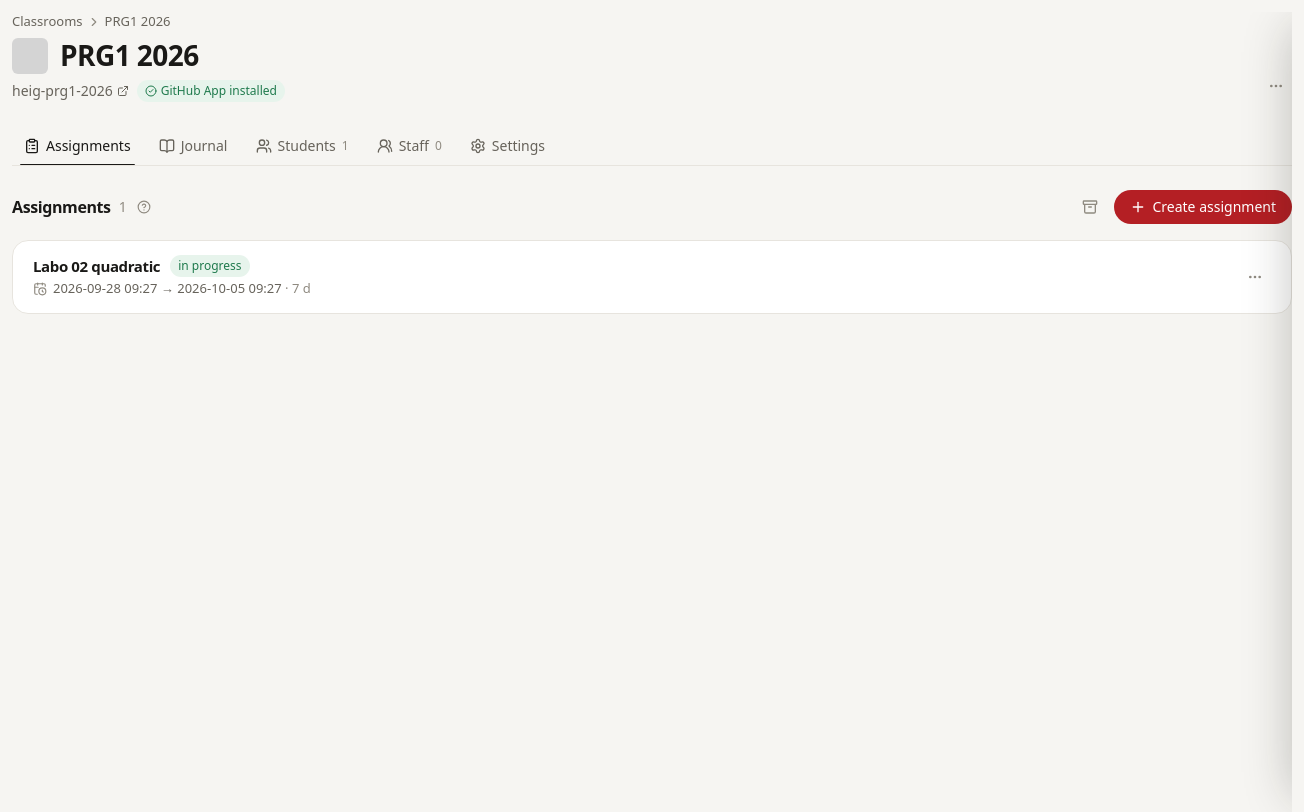
Test case: ClassroomView states › reports the grade sheet through toasts, since the menu is gone by then
Expected: the heading "PRG1 2026" is shown, [12,36,199,74]
Click the button named "Classroom actions". click: (1276, 86)
box: [1260,70,1292,102]
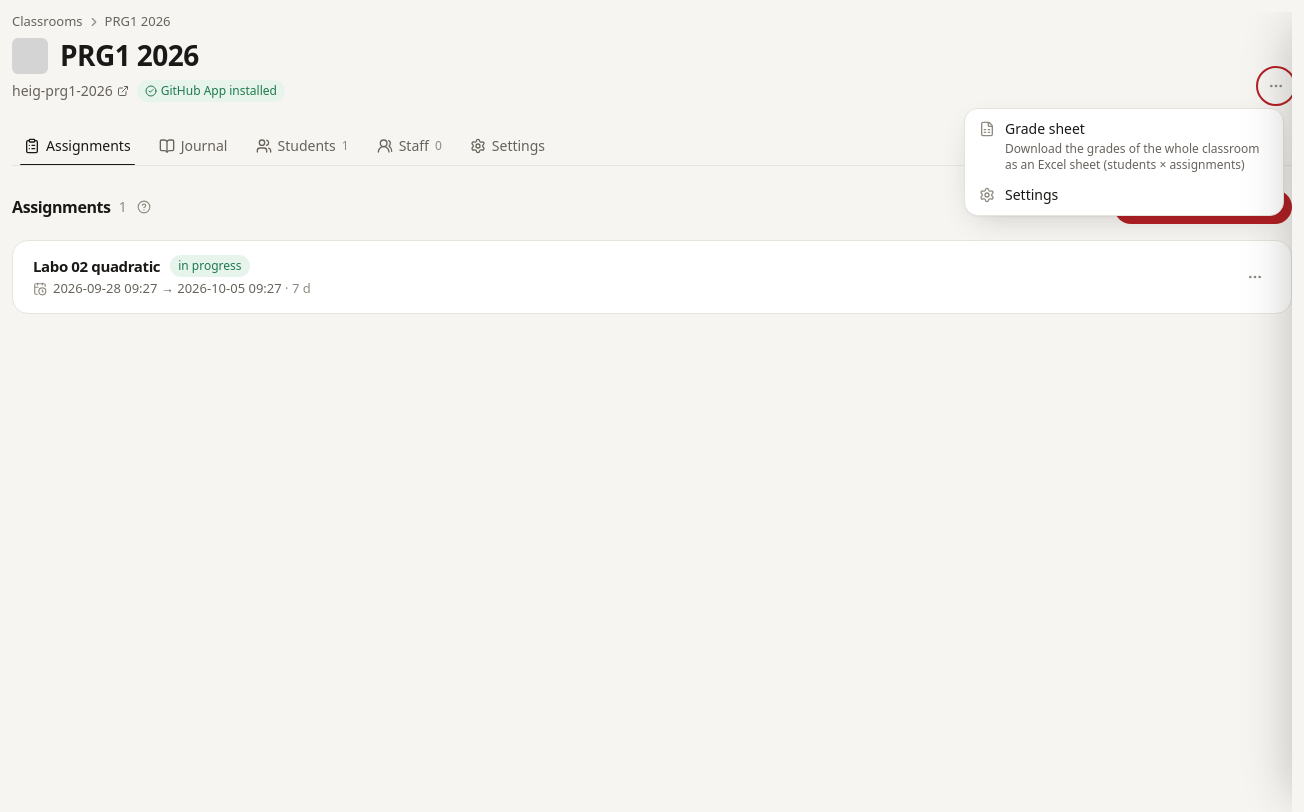
Expected: the text "Download the grades of the whole classroom" is shown, [1005,140,1260,172]
Click the menu item "Grade sheet". click: (1124, 146)
box: [969,112,1279,178]
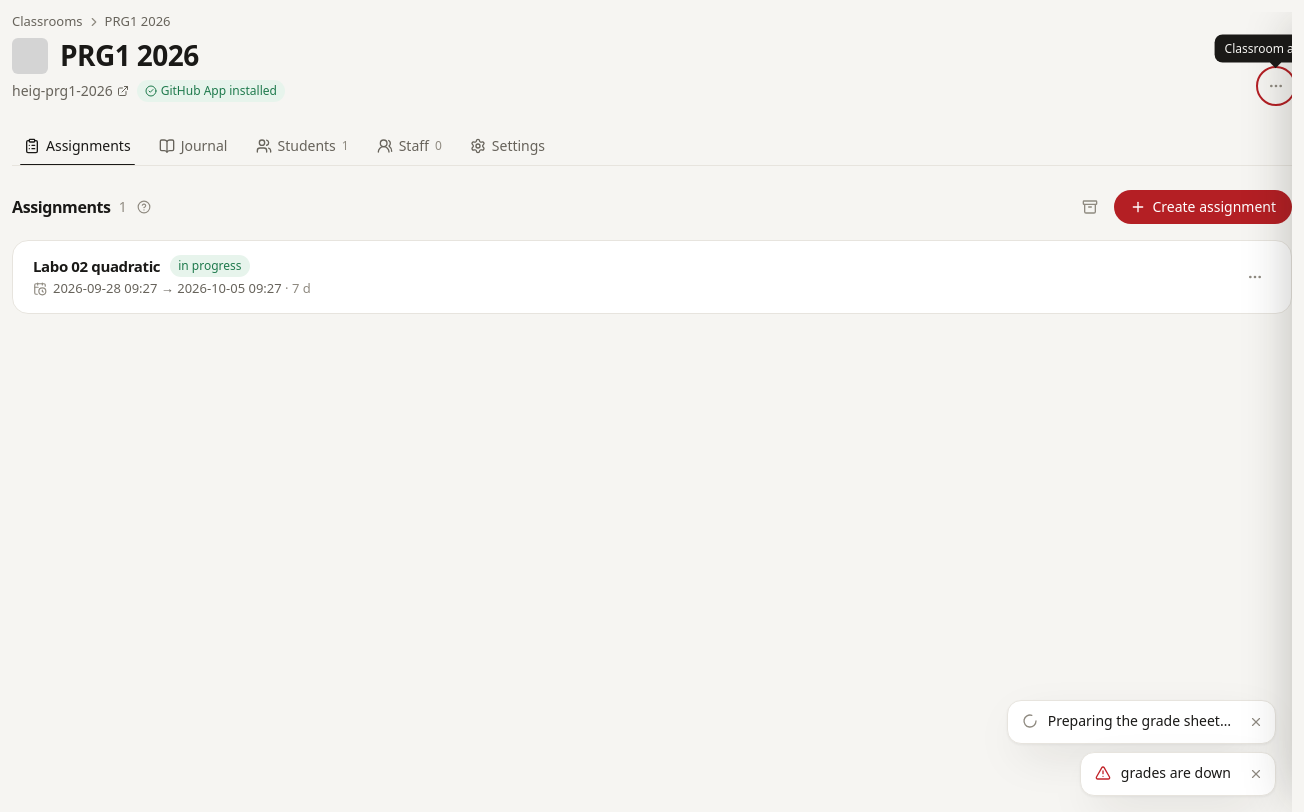
Expected: the text "Preparing the grade sheet…" is shown, [1048,711,1231,731]
Expected: the text "grades are down" is shown, [1121,763,1231,783]
